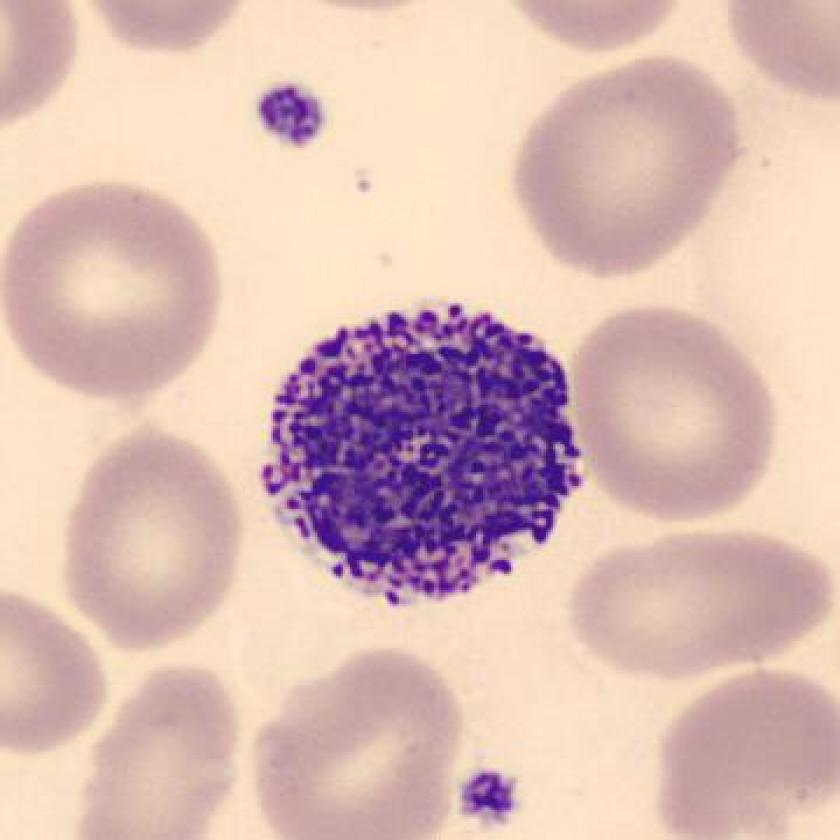basophil: (267, 297, 584, 607)
